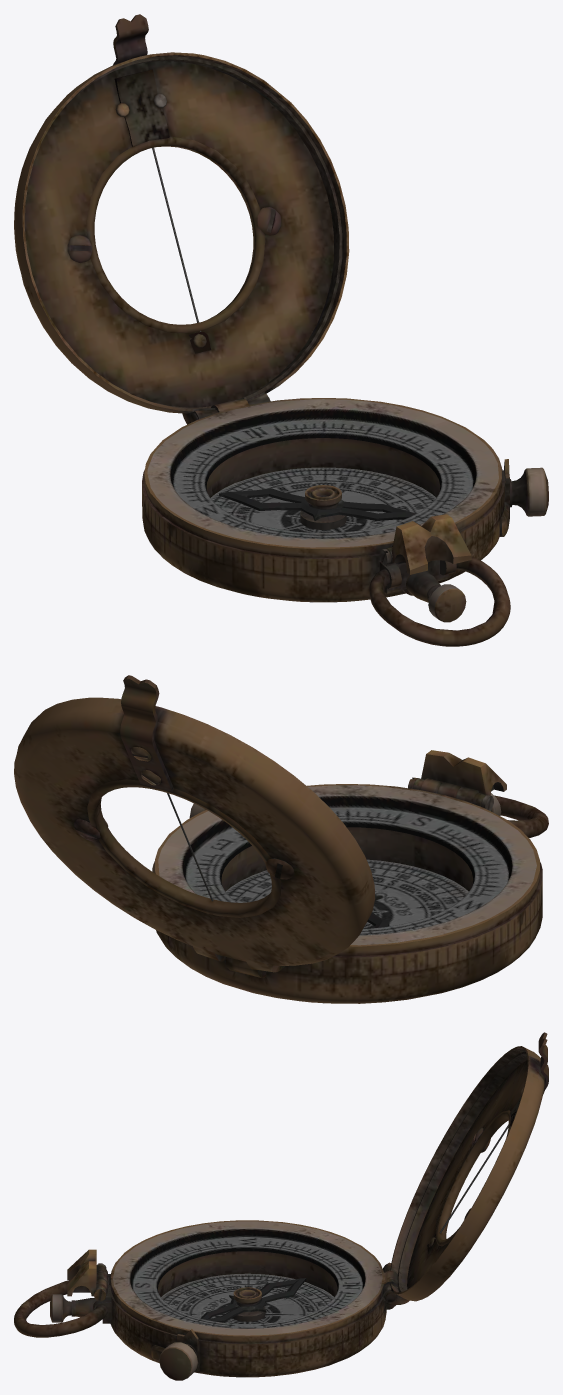
The model's file is seadogs_compass.glb.
3 views of the same model, one above another, from view 1: azimuth 30°, elevation 25°; view 2: azimuth 150°, elevation 25°; view 3: azimuth 270°, elevation 25° (orthographic). The views are drawn at different scales.
Visible parts, largest first — view 1: seadogs_compass; view 2: seadogs_compass; view 3: seadogs_compass.
Part boxes in pixels (bbox=[...]): seadogs_compass: bbox=[14, 14, 548, 646]; seadogs_compass: bbox=[14, 675, 548, 1003]; seadogs_compass: bbox=[14, 1032, 548, 1380].
Bounding box in the file's own units: 0.0812 × 0.0866 × 0.1441.
1 material, 1 textured.
